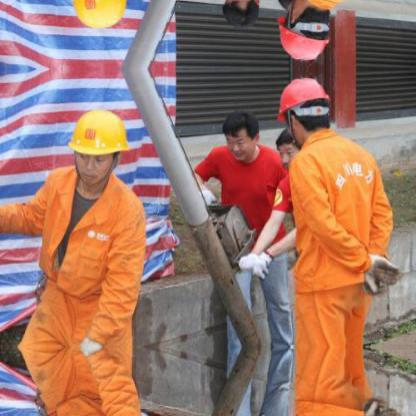Helmet: (68, 112, 126, 183), (274, 81, 336, 144), (276, 12, 336, 69)
No Helmet: (214, 108, 258, 160)
